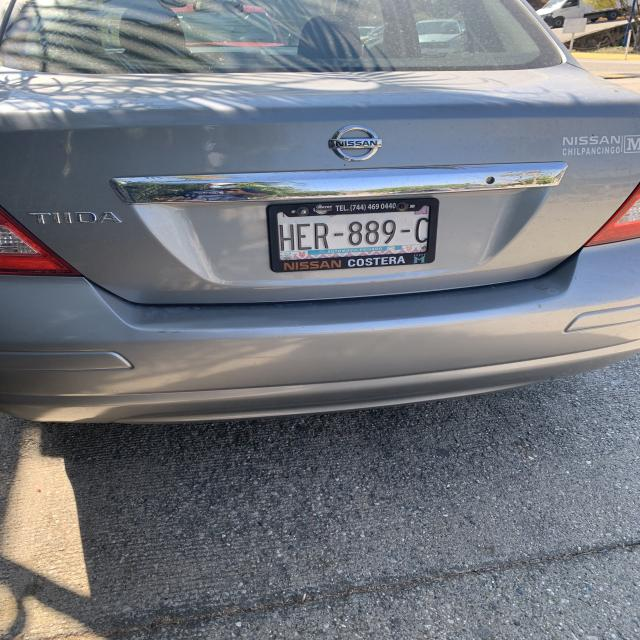placa: (271, 215, 434, 250)
